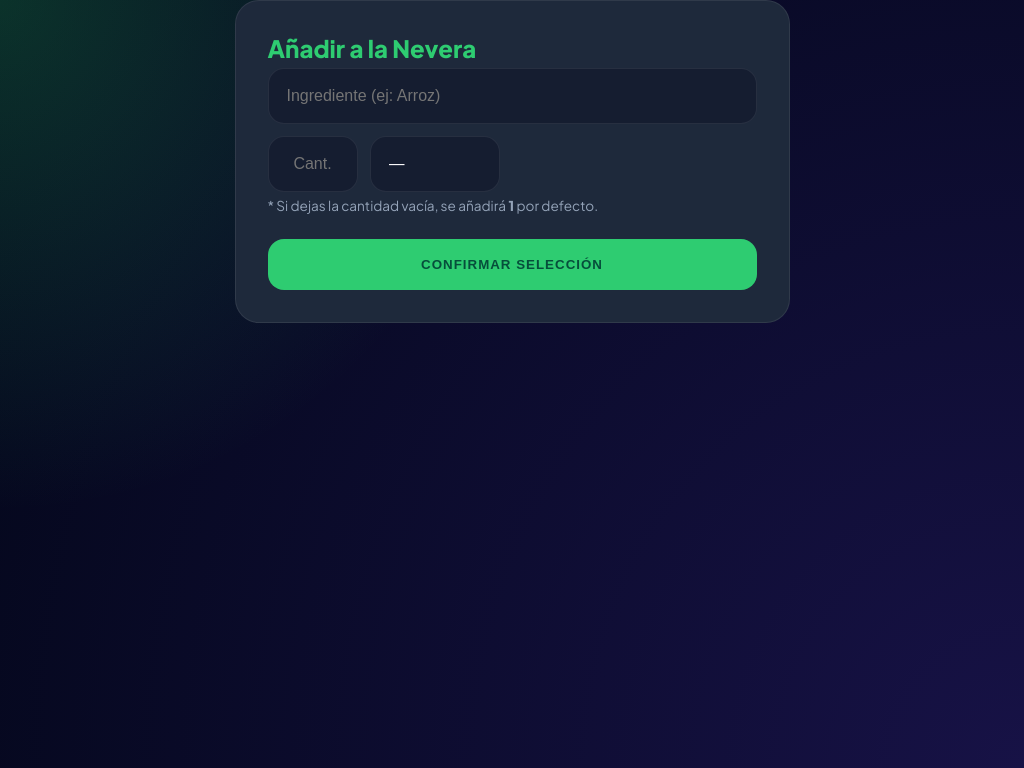
Buscador › Al seleccionar sugerencia se rellena el input
The width and height of the screenshot is (1024, 768).
Type "ace" into the field with placeholder "Ingrediente (ej: Arroz)".
click(512, 96); type("ace")  # box [268,68,756,124]
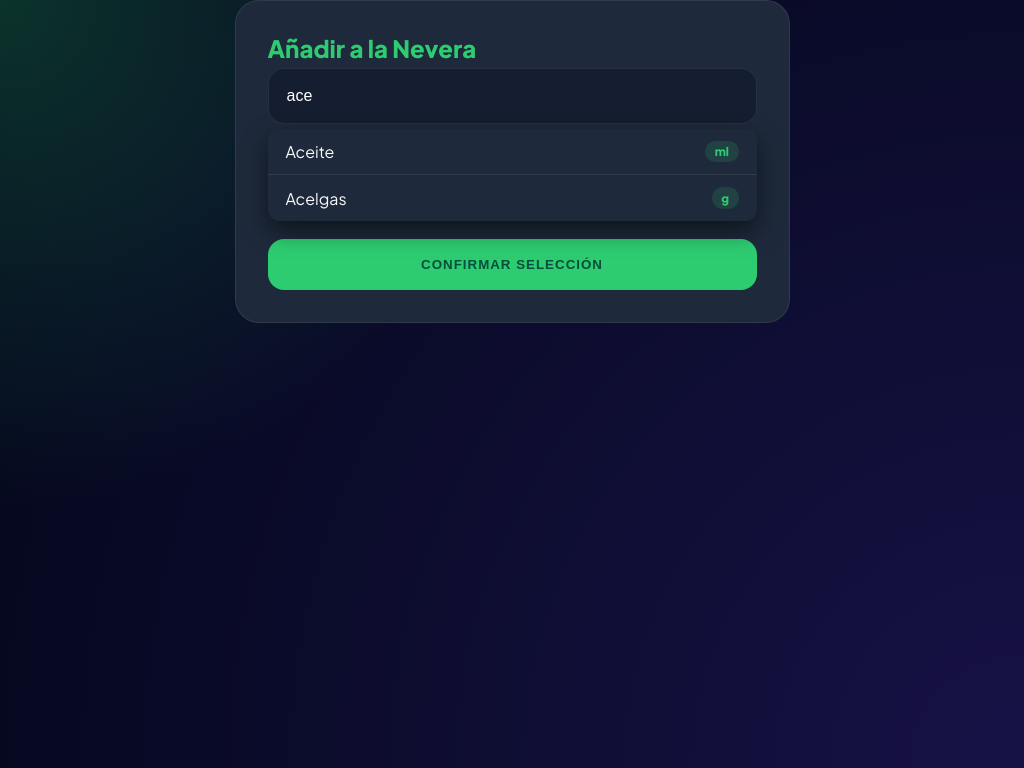
Click the text "Aceite".
click(512, 152)  # box [268,129,756,175]
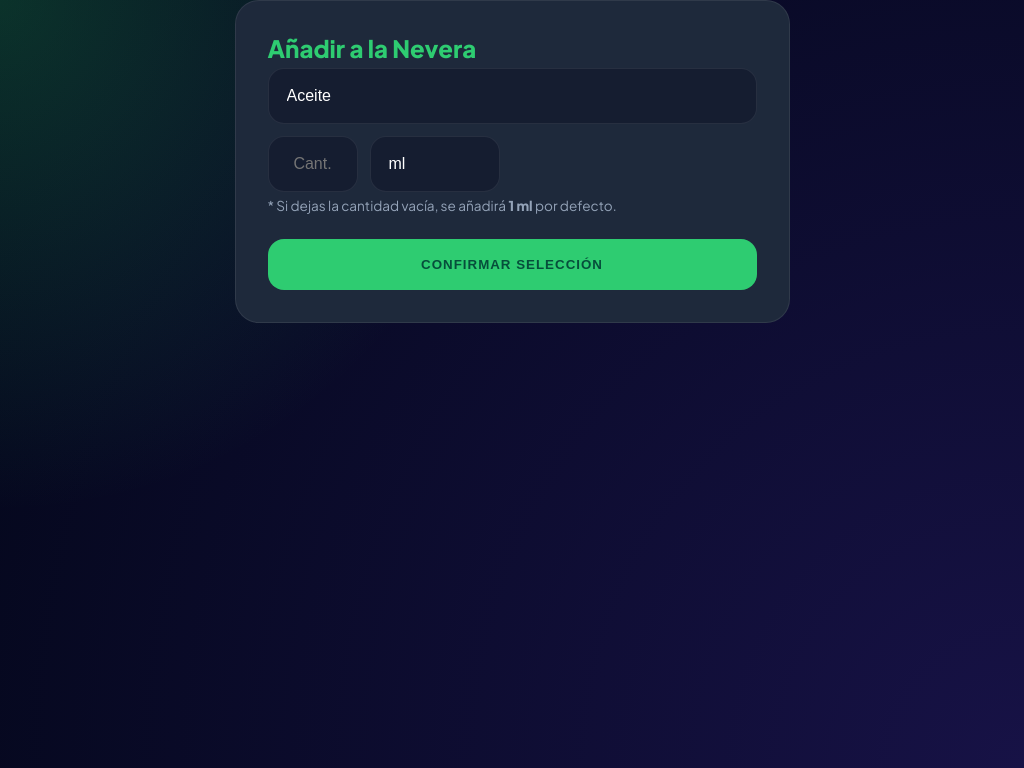
Expected: the 1st field with placeholder "Ingrediente (ej: Arroz)" holds "Aceite", [268,68,756,124]
